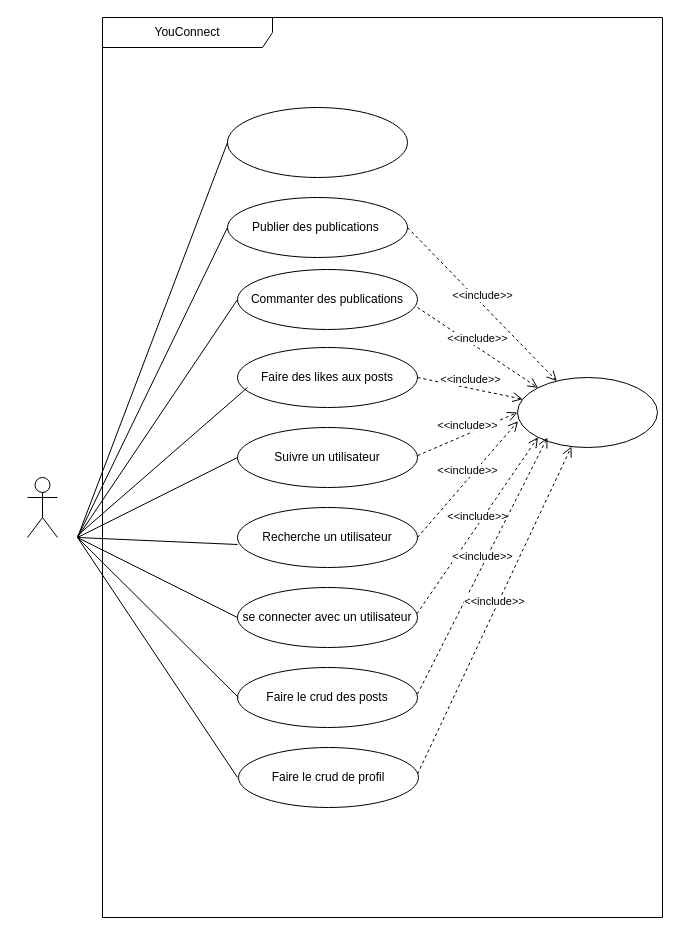
This 680x935 diagram has some shape labels left out. Each missing label, with the centre of its shape:
Creation d'un compte: (x=317, y=142)
Log in: (x=587, y=412)
utilisateur: (x=42, y=507)
